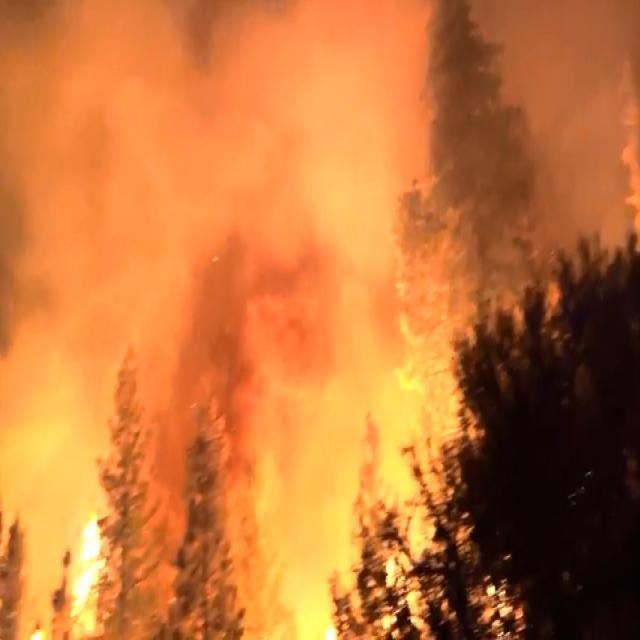Fire: (26, 523, 118, 640)
